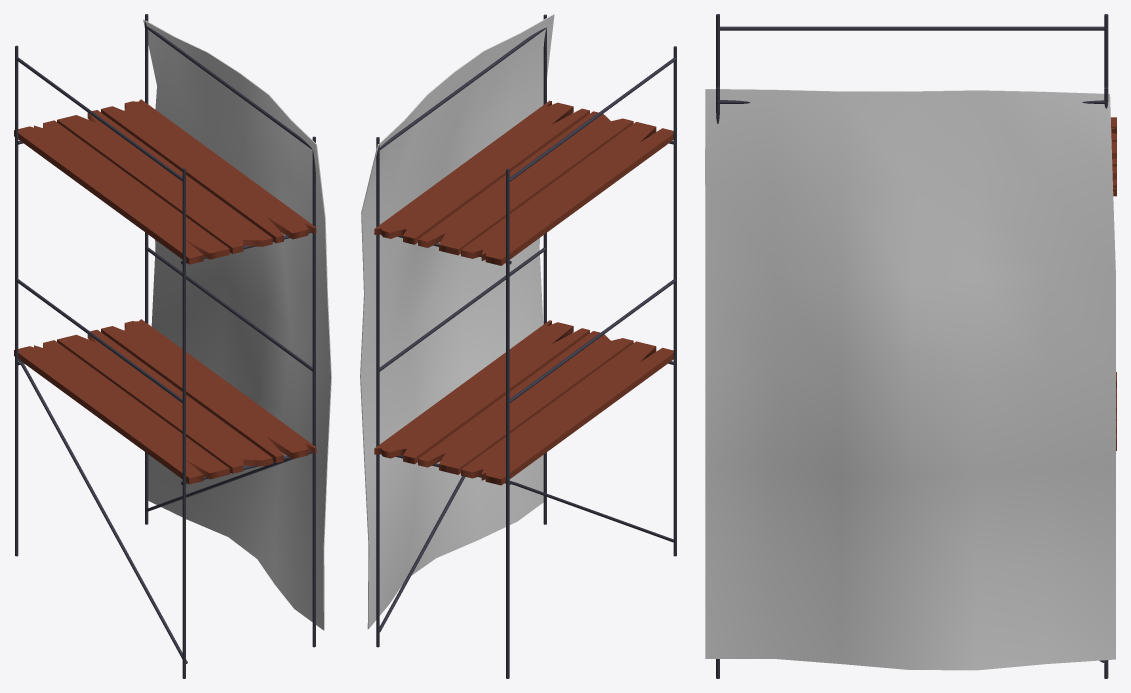
The model's file is Scaffolding.fbx.
The picture shows the model from 3 angles, left to right: view 1: azimuth 30°, elevation 25°; view 2: azimuth 150°, elevation 25°; view 3: azimuth 270°, elevation 25°; orthographic projection. The views are drawn at different scales.
Visible parts, largest first — view 1: Plane001, Box006, Box003, Cylinder001; view 2: Plane001, Box006, Box003, Cylinder001; view 3: Plane001, Cylinder001.
Boxes of the visible parts, <box> form: Plane001: <box>143,19,331,630</box>; Box006: <box>14,99,316,264</box>; Box003: <box>14,319,316,484</box>; Cylinder001: <box>15,14,316,678</box>; Plane001: <box>360,14,554,629</box>; Box006: <box>374,100,673,265</box>; Box003: <box>374,320,673,485</box>; Cylinder001: <box>376,14,676,678</box>; Plane001: <box>705,89,1115,670</box>; Cylinder001: <box>716,14,1108,678</box>.
Bounding box in the file's own units: 33.37 × 97.24 × 61.33.
